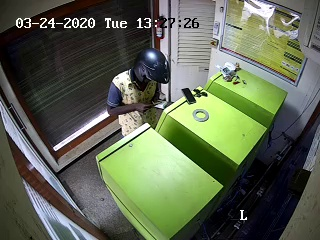helmet: (121, 47, 178, 91)
